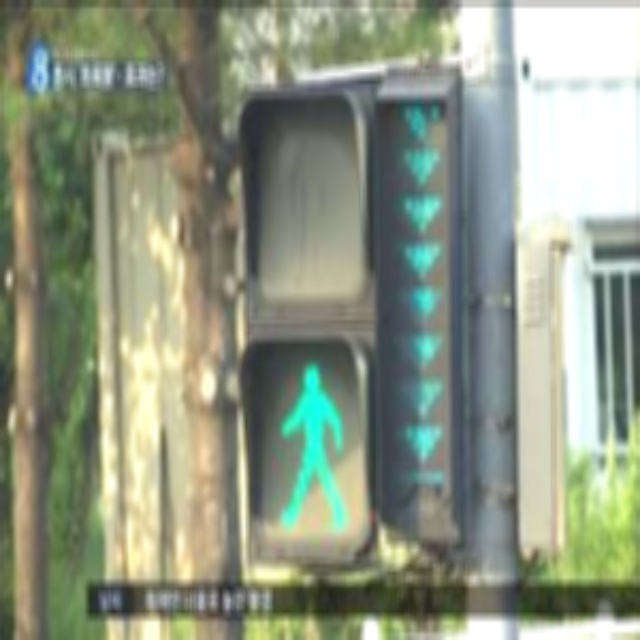green_light: (272, 360, 349, 526), (390, 327, 447, 367), (393, 373, 446, 413), (396, 192, 445, 235), (393, 418, 441, 459), (395, 143, 443, 184), (392, 285, 446, 320), (394, 240, 442, 279)
